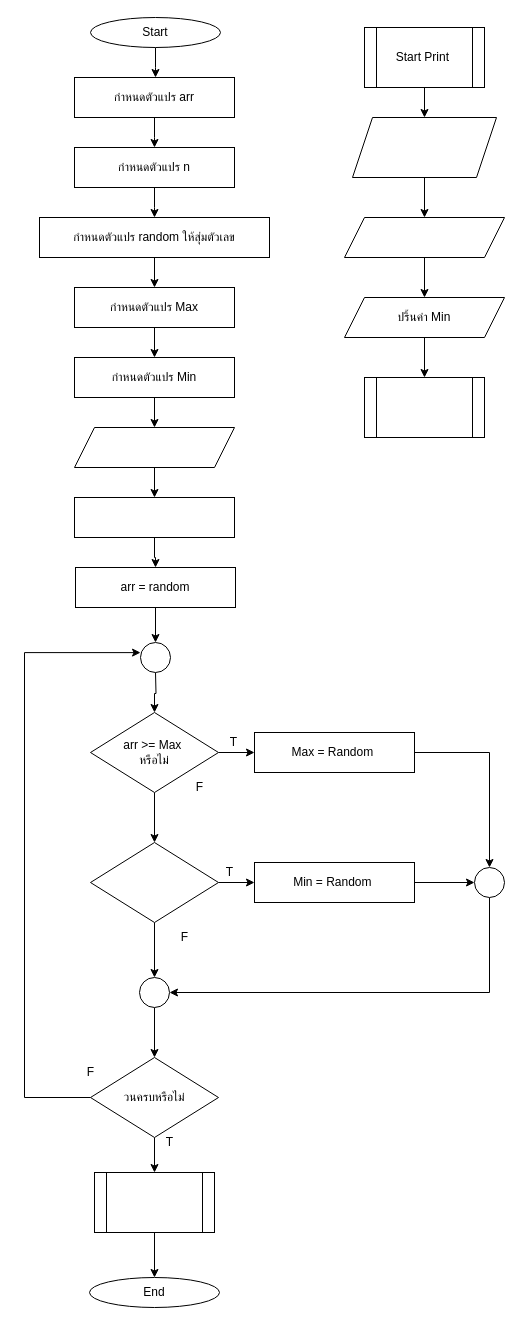
Image size: 522x1325. Some labels were removed from this diagram. The shapes that lost their labels are listed below. From the top down, each one's centre as x and y in pixels, then its label:
At point (424, 147): "ปริ้นค่า arr ตามรอบ n".
At point (424, 237): "ปริ้นค่า Max".
At point (424, 407): "End Print".
At point (154, 447): "กรอกค่าตัวแปร n".
At point (154, 517): "วนรอบตามค่า N".
At point (154, 882): "arr <= min หรือไม่".
At point (154, 1202): "Print".
